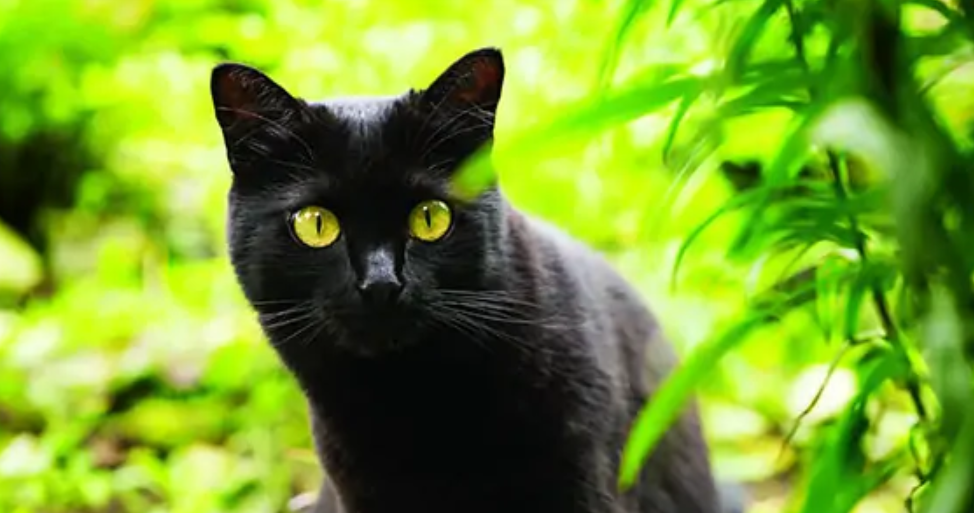gato: (203, 36, 672, 513)
